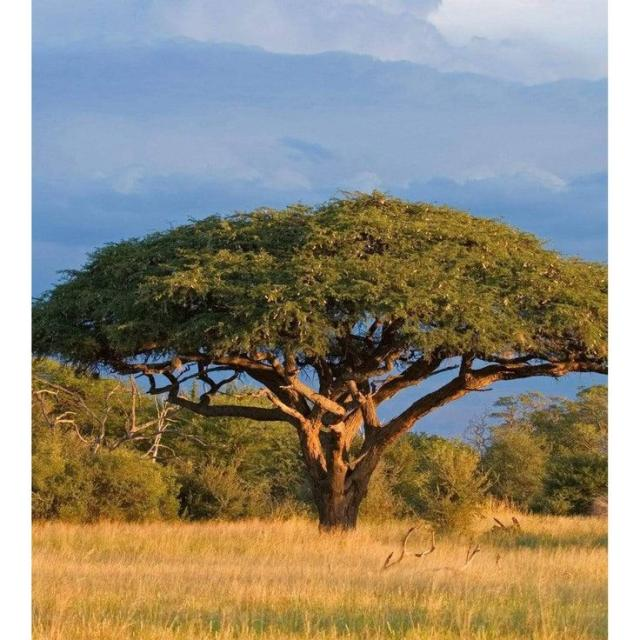Acacia: (42, 195, 602, 519)
